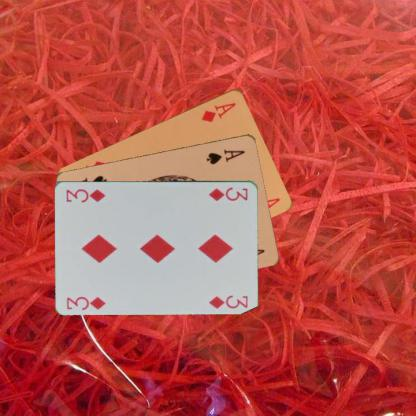3d: (64, 294, 108, 312), (207, 184, 250, 202)
Ad: (199, 99, 237, 124)
As: (204, 146, 246, 165)
